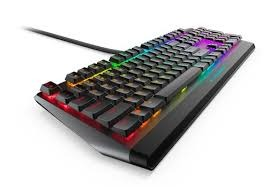keyboard: (20, 19, 264, 178)
